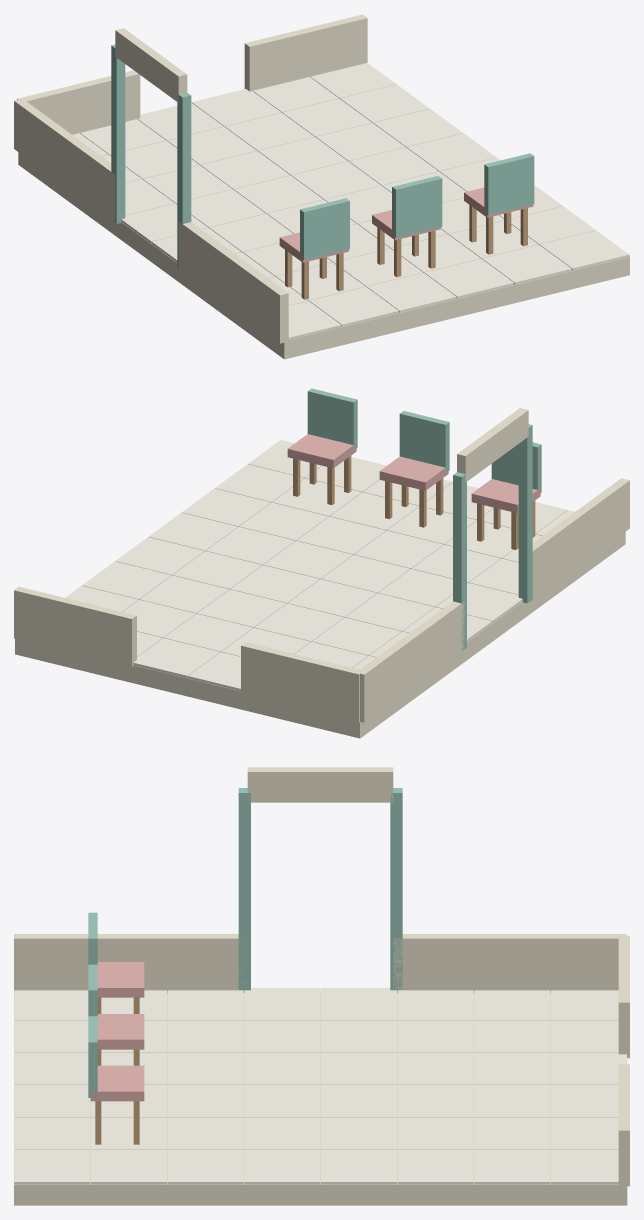
File: lounge.glb
The picture shows the model from 3 angles, top to bottom: view 1: azimuth 30°, elevation 25°; view 2: azimuth 150°, elevation 25°; view 3: azimuth 270°, elevation 25°; orthographic projection. The views are drawn at different scales.
Visible parts, largest first — view 1: room tile, back wall.001, doorpost, chair back, chair back.002, chair back.001, chair leg.009, chair leg.001, chair leg.005, chair seat, chair seat.001, chair seat.002; view 2: room tile, back wall.001, doorpost, chair back.002, chair back, chair seat, chair seat.002, chair back.001, chair seat.001, chair leg.005, chair leg.009, chair leg.001; view 3: room tile, back wall.001, doorpost, chair seat, chair seat.001, chair seat.002, chair back, chair leg.009.
Part boxes in pixels (left/top/right/bottom): room tile: left=72, top=63, right=629, bottom=339; back wall.001: left=14, top=14, right=629, bottom=359; doorpost: left=111, top=44, right=191, bottom=268; chair back: left=484, top=153, right=534, bottom=215; chair back.002: left=392, top=176, right=442, bottom=237; chair back.001: left=300, top=198, right=349, bottom=260; chair leg.009: left=469, top=205, right=527, bottom=254; chair leg.001: left=285, top=250, right=343, bottom=299; chair leg.005: left=377, top=227, right=435, bottom=277; chair seat: left=464, top=187, right=533, bottom=217; chair seat.001: left=279, top=232, right=348, bottom=262; chair seat.002: left=372, top=210, right=441, bottom=240; room tile: left=65, top=440, right=574, bottom=691; back wall.001: left=14, top=408, right=629, bottom=738; doorpost: left=453, top=424, right=532, bottom=650; chair back.002: left=399, top=411, right=449, bottom=472; chair back: left=307, top=388, right=357, bottom=449; chair seat: left=287, top=434, right=356, bottom=468; chair seat.002: left=379, top=456, right=448, bottom=490; chair back.001: left=491, top=442, right=541, bottom=493; chair seat.001: left=471, top=479, right=540, bottom=513; chair leg.005: left=385, top=478, right=443, bottom=527; chair leg.009: left=293, top=456, right=351, bottom=504; chair leg.001: left=477, top=500, right=535, bottom=549; room tile: left=14, top=988, right=626, bottom=1184; back wall.001: left=14, top=767, right=629, bottom=1205; doorpost: left=238, top=788, right=402, bottom=992; chair seat: left=90, top=1065, right=144, bottom=1101; chair seat.001: left=97, top=962, right=144, bottom=997; chair seat.002: left=97, top=1014, right=144, bottom=1049; chair back: left=88, top=1016, right=97, bottom=1097; chair leg.009: left=95, top=1101, right=139, bottom=1144.
Bounding box in the file's own units: 6.08 × 3.48 × 8.04.
